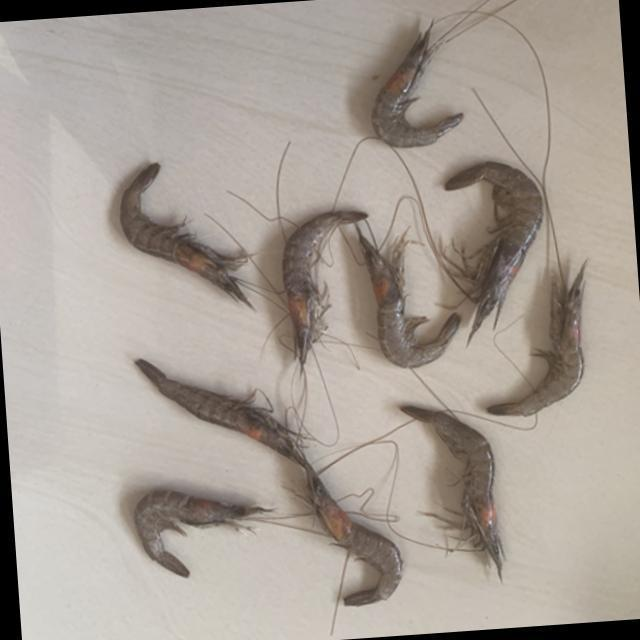shrimp: (118, 161, 250, 307), (135, 357, 306, 468), (444, 161, 543, 343), (400, 406, 503, 580), (356, 225, 460, 368), (489, 261, 585, 414), (304, 457, 400, 606), (282, 210, 367, 368), (133, 492, 267, 578), (372, 22, 463, 146)
